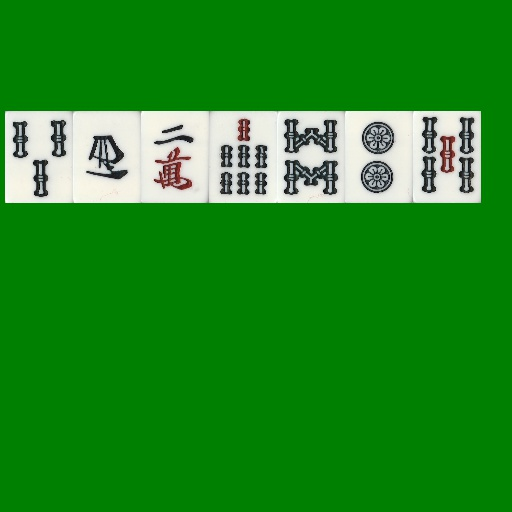2m: (141, 111, 209, 203)
2p: (345, 111, 413, 203)
3s: (5, 111, 73, 203)
5s: (413, 111, 481, 203)
7s: (209, 111, 277, 203)
8s: (277, 111, 345, 203)
west: (73, 111, 141, 203)
